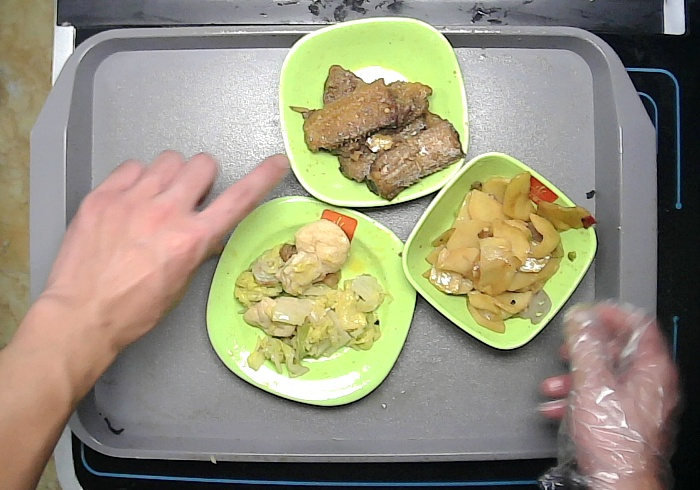SHKJ-Lv_Se_Cai_Die: (278, 19, 470, 211)
SHKJ-Lv_Se_Si_Fang_Cai_Die: (206, 194, 420, 411)
SHKJ-Lv_Se_Xiao_Fang_Die: (401, 152, 597, 349)
